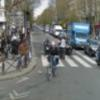bicycles: (46, 60, 62, 84)
